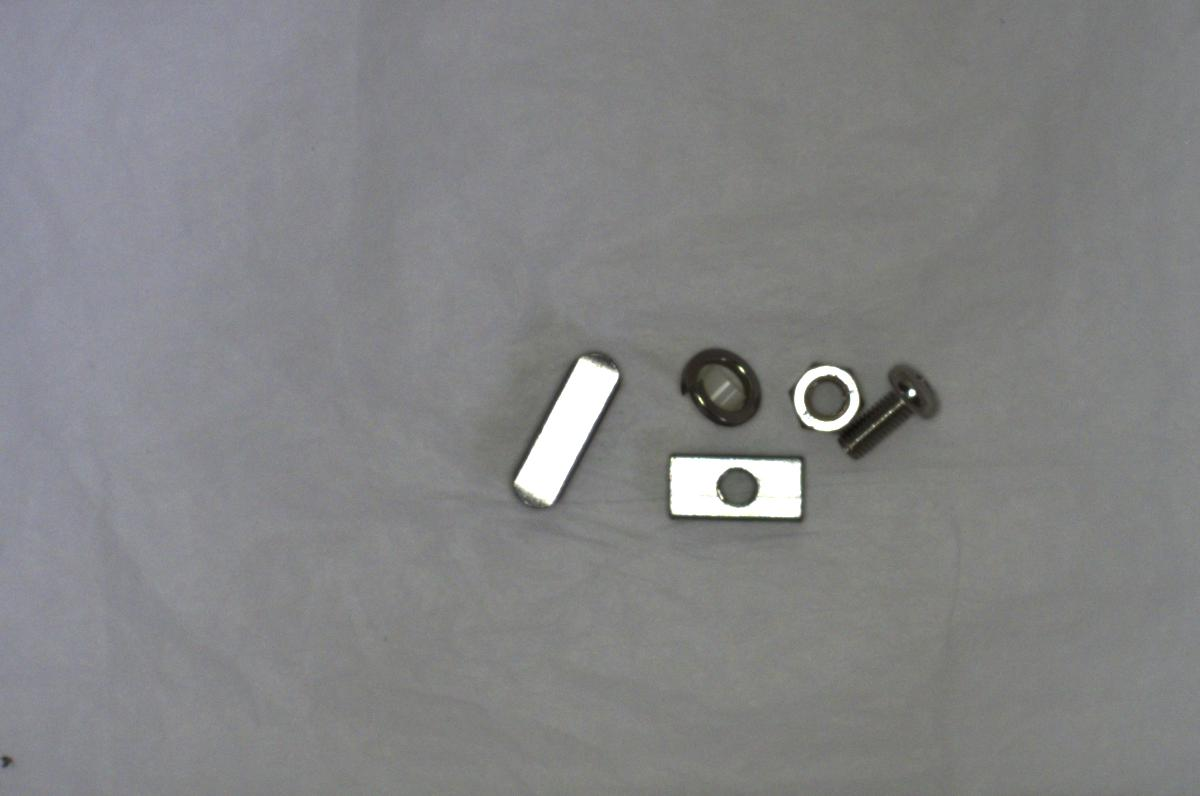Hexagon nut: (785, 358, 862, 440)
Keybar: (504, 342, 620, 507)
Plastic cushion pillar: (701, 362, 744, 413)
Rectangular nut: (661, 445, 810, 536)
Round head screw: (831, 362, 944, 458)
Spring washer: (678, 342, 764, 432)
